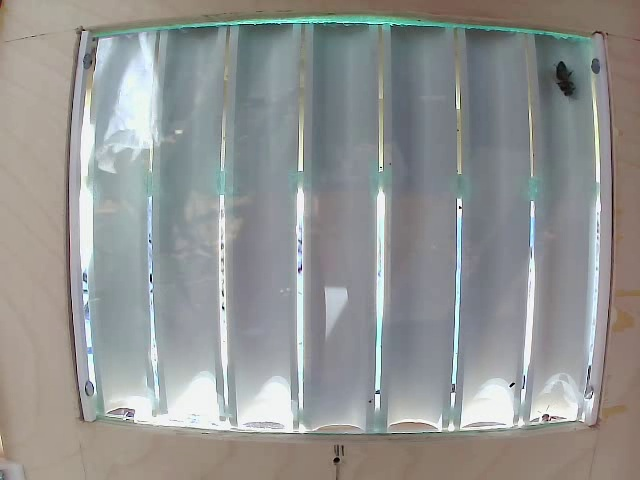bee: (552, 53, 581, 107)
